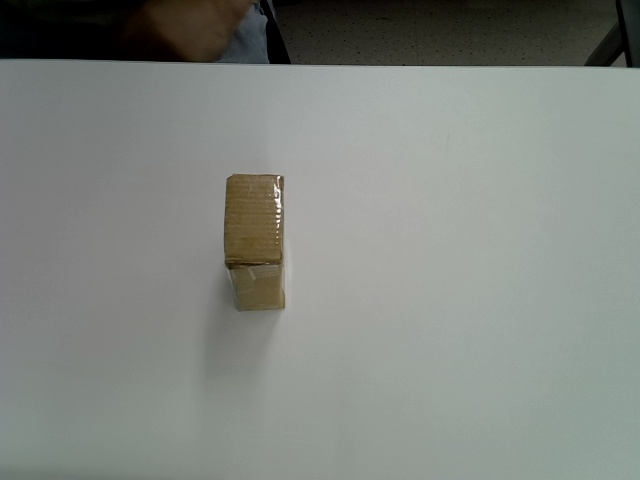normal: (224, 174, 288, 313)
